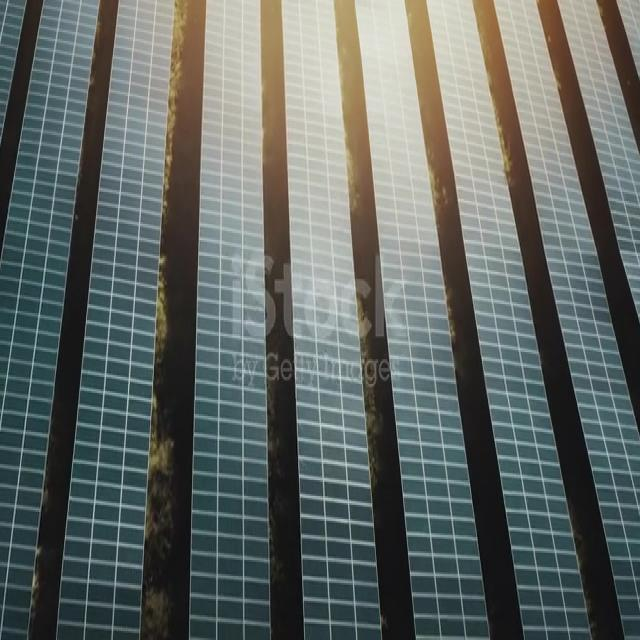Solar-panels: (426, 1, 595, 640), (497, 2, 640, 639), (357, 2, 491, 639), (57, 3, 175, 640), (1, 1, 102, 640), (283, 2, 384, 640), (190, 1, 270, 640), (560, 1, 640, 321), (1, 3, 28, 141)
